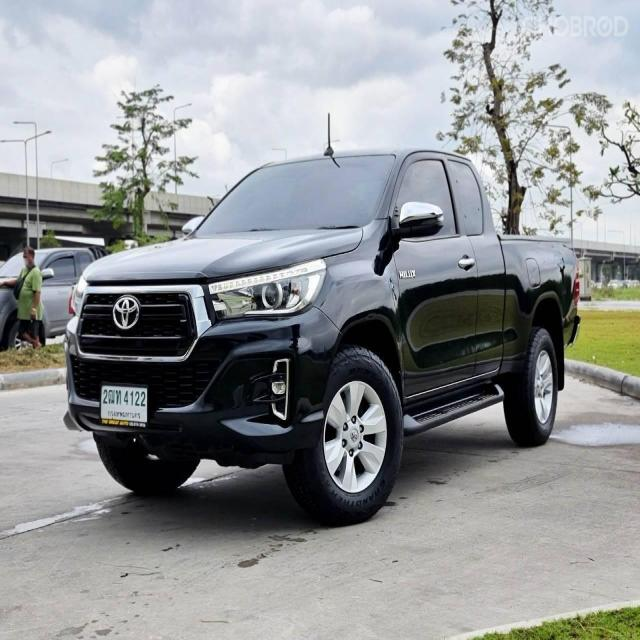license_plate: (94, 379, 155, 444)
